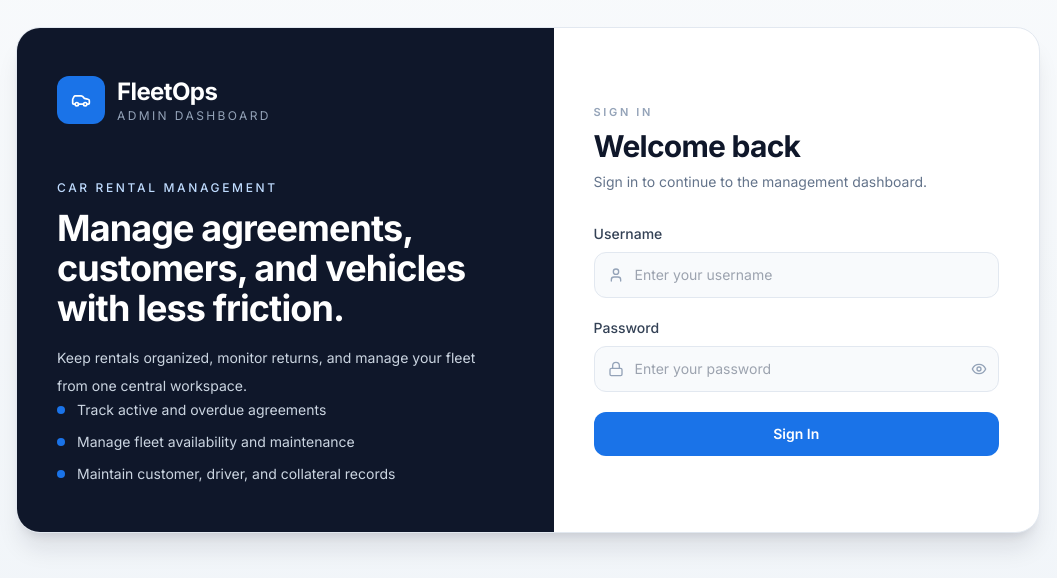
Test: LoginPage failure title › says the server is unreachable when there was no response
This screenshot has width=1057, height=578.
Type "admin" into the field labelled "Username". click: (796, 275)
box: x1=594 y1=252 x2=999 y2=298
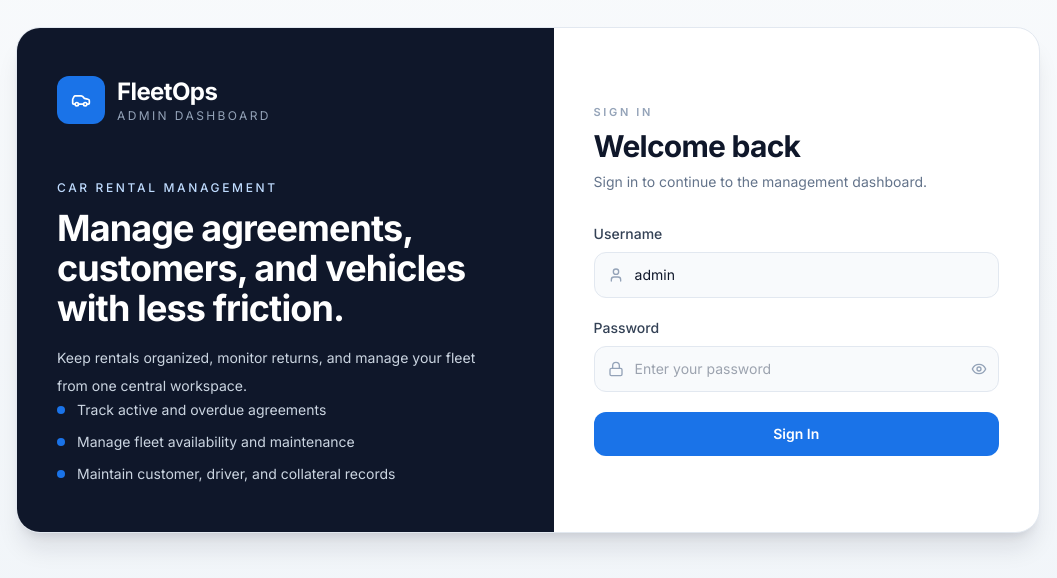
Type "secret-pass" into the password field labelled "Password". click: (796, 369)
box: x1=594 y1=346 x2=999 y2=392
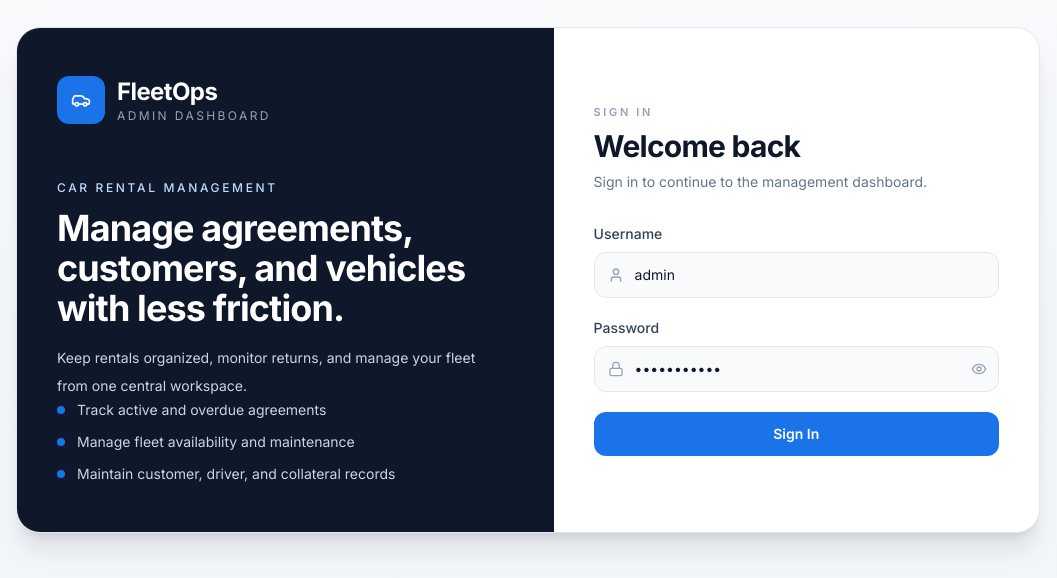
Submit the form labelled "Username", box x1=594 y1=224 x2=999 y2=456
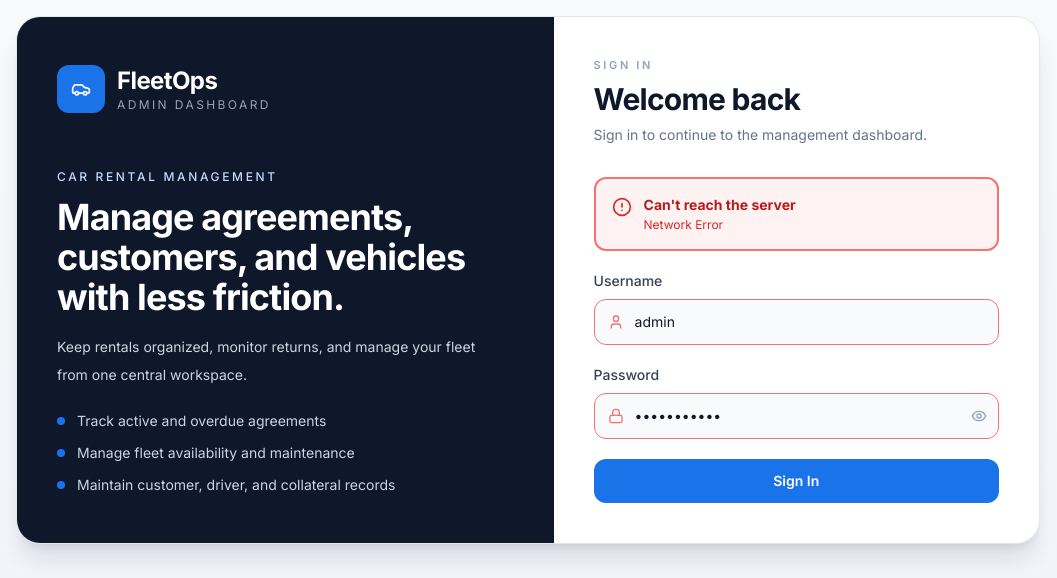
Expected: the text "Can't reach the server" is shown, x1=644 y1=195 x2=796 y2=215
